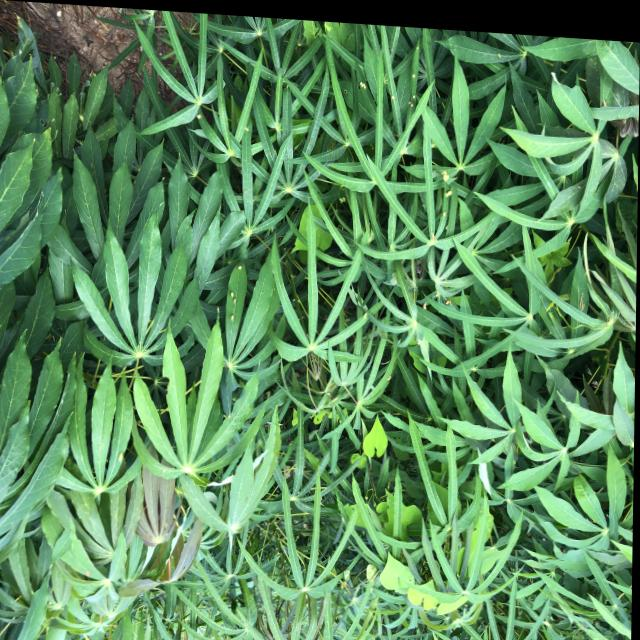Mosca: (225, 286, 240, 328), (433, 183, 456, 205), (228, 253, 249, 275), (332, 186, 354, 206), (430, 160, 450, 182), (430, 209, 455, 226), (357, 67, 373, 92), (186, 106, 208, 123), (441, 295, 460, 314), (406, 96, 418, 107), (409, 68, 418, 81)
